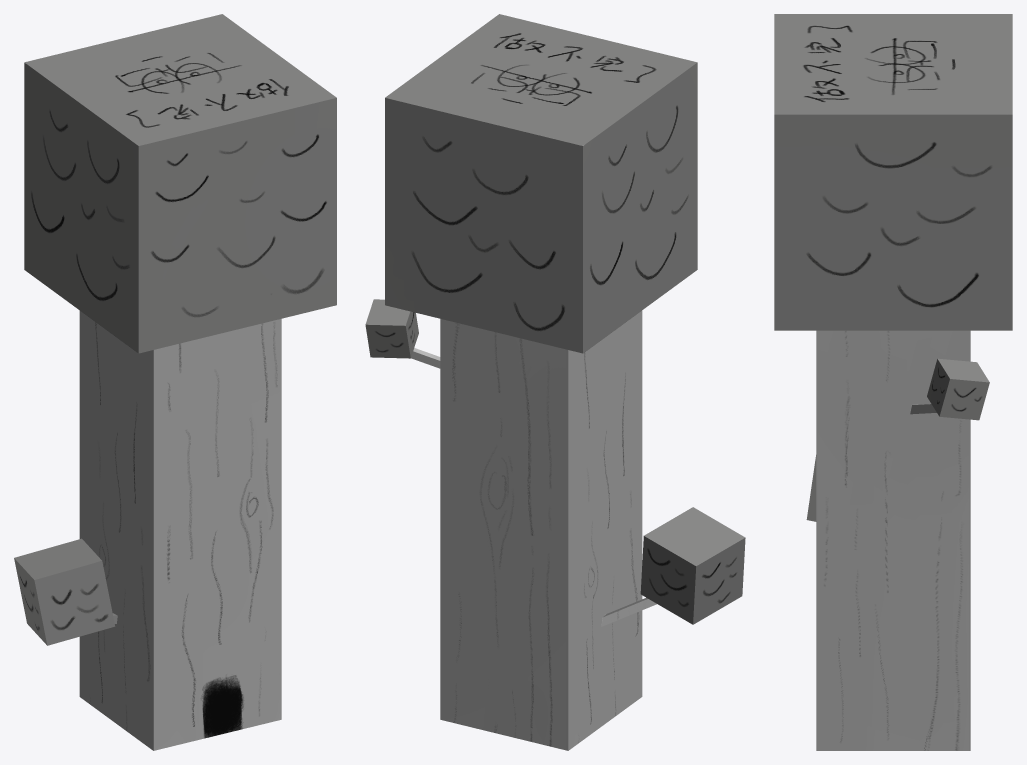
3 renders of one model, left to right at view 1: azimuth 30°, elevation 25°; view 2: azimuth 150°, elevation 25°; view 3: azimuth 270°, elevation 25°, orthographic. The views are drawn at different scales.
Visible parts, largest first — view 1: 平面; view 2: 平面; view 3: 平面.
Part boxes in pixels (x1,y1,x2,y2): 平面: [14, 14, 336, 750]; 平面: [365, 14, 745, 750]; 平面: [774, 14, 1012, 750].
Size of the model in its own units: 2463 by 4684 by 1547.
3 materials, 3 textured.
